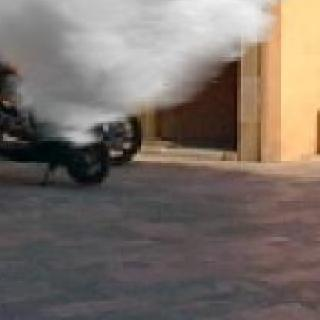smoke: (0, 0, 281, 164)
